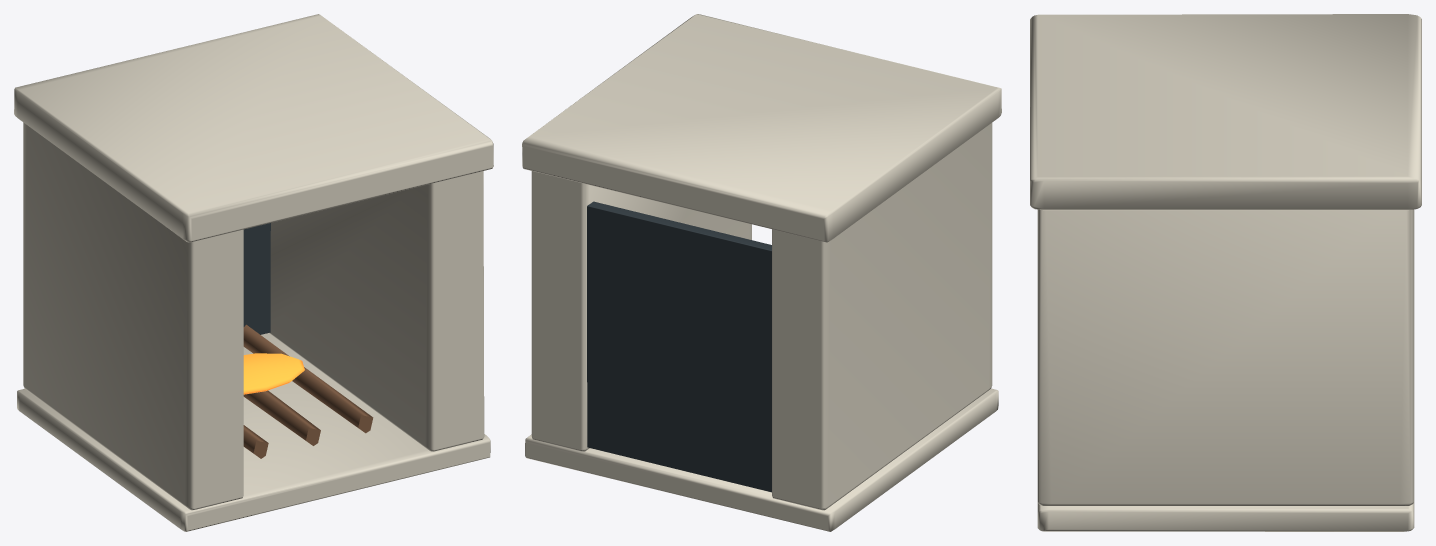
The model's file is studio-fireplace-stone.lod.glb.
3 renders of one model, left to right at view 1: azimuth 30°, elevation 25°; view 2: azimuth 150°, elevation 25°; view 3: azimuth 270°, elevation 25°, orthographic. The views are drawn at different scales.
Parts seen in each view (by area): view 1: upholstery (×2), part (×2); view 2: upholstery (×2); view 3: upholstery.
Boxes of the visible parts, x1,y1,x2,y2 form: upholstery (×2): (14, 14, 493, 531); part (×2): (243, 324, 373, 458); upholstery (×2): (522, 14, 1001, 531); upholstery: (1030, 14, 1421, 531).
Size of the model in its own units: 1 by 1 by 1.
